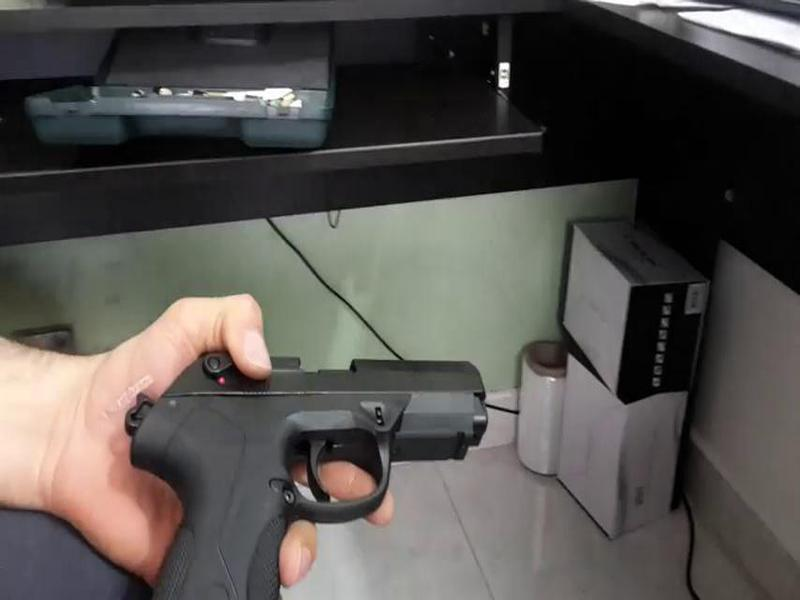Pistola: (121, 317, 503, 579)
